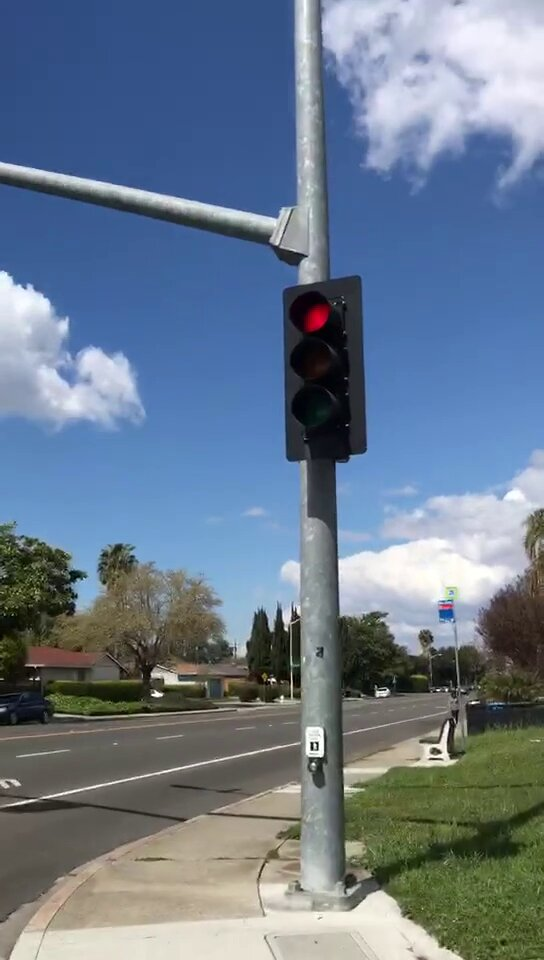red_light: (283, 287, 364, 452)
